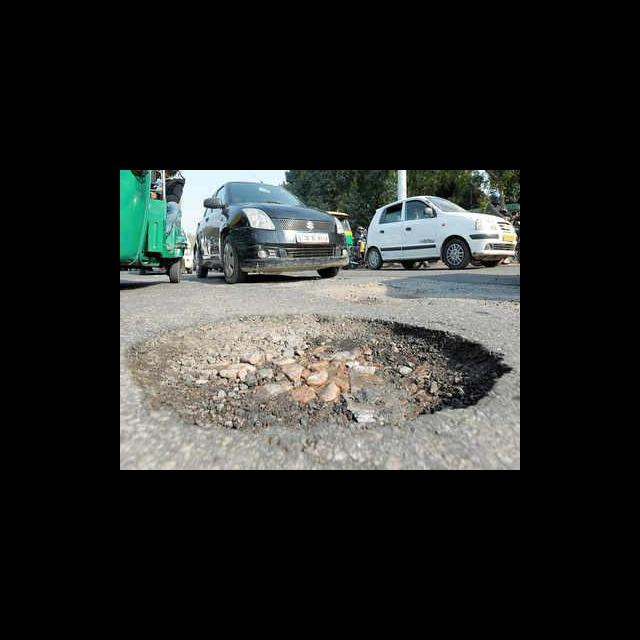lubang_kecil: (122, 305, 513, 437)
